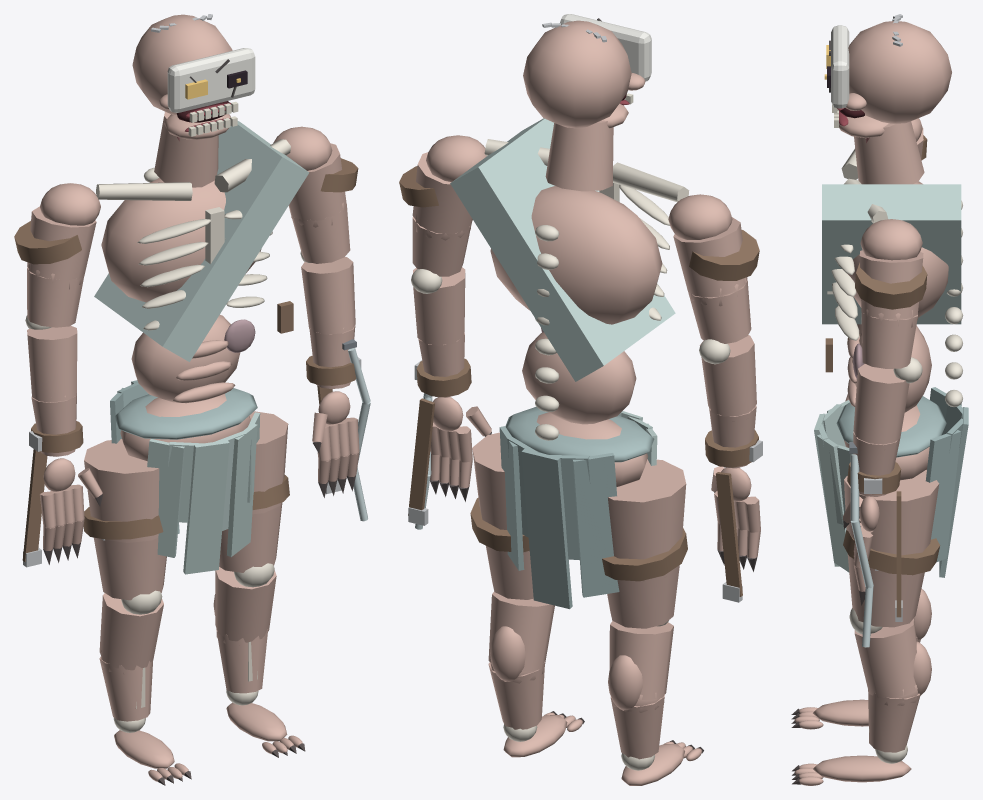
File: patient.glb
3 renders of one model, left to right at view 1: azimuth 30°, elevation 25°; view 2: azimuth 150°, elevation 25°; view 3: azimuth 270°, elevation 25°, orthographic. The views are drawn at different scales.
Visible parts, largest first — view 1: ward_gown.006, ward_skin.071, ward_skin.012, ward_gown.002, ward_skin.073, ward_skin.067, ward_gown_dark.005, ward_mask, ward_skin.013, ward_skin.028, ward_skin.049, ward_skin.015 (+42 smaller); view 2: ward_gown.006, ward_skin.071, ward_skin.073, ward_skin.012, ward_gown_dark.002, ward_skin.067, ward_gown_dark, ward_skin.072, ward_gown_dark.005, ward_skin.049, ward_skin.015, ward_skin.013 (+33 smaller); view 3: ward_gown.006, ward_skin.073, ward_skin, ward_skin.028, ward_skin.003, ward_skin.072, ward_skin.001, ward_gown_dark.004, ward_skin.026, ward_skin.004, ward_gown_dark.005, ward_skin.024 (+32 smaller).
Part boxes in pixels (x1=…): ward_gown.006: x1=94, y1=121, x2=309, y2=361; ward_skin.071: x1=101, y1=178, x2=261, y2=302; ward_skin.012: x1=84, y1=439, x2=159, y2=542; ward_gown.002: x1=183, y1=440, x2=229, y2=574; ward_skin.073: x1=132, y1=14, x2=232, y2=114; ward_skin.067: x1=131, y1=315, x2=240, y2=402; ward_gown_dark.005: x1=114, y1=388, x2=257, y2=439; ward_mask: x1=167, y1=48, x2=255, y2=112; ward_skin.013: x1=94, y1=537, x2=166, y2=600; ward_skin.028: x1=301, y1=257, x2=355, y2=334; ward_skin.049: x1=27, y1=325, x2=77, y2=401; ward_skin.015: x1=99, y1=593, x2=163, y2=670; ward_gown.006: x1=450, y1=118, x2=675, y2=381; ward_skin.071: x1=490, y1=186, x2=662, y2=324; ward_skin.073: x1=523, y1=20, x2=631, y2=128; ward_skin.012: x1=608, y1=459, x2=686, y2=559; ward_gown_dark.002: x1=521, y1=449, x2=572, y2=609; ward_skin.067: x1=522, y1=332, x2=636, y2=424; ward_gown_dark: x1=572, y1=453, x2=619, y2=597; ward_skin.072: x1=545, y1=120, x2=613, y2=191; ward_gown_dark.005: x1=505, y1=406, x2=654, y2=462; ward_skin.049: x1=699, y1=335, x2=756, y2=416; ward_skin.015: x1=609, y1=621, x2=673, y2=700; ward_skin.013: x1=607, y1=565, x2=679, y2=628; ward_gown.006: x1=822, y1=184, x2=961, y2=324; ward_skin.073: x1=848, y1=21, x2=951, y2=123; ward_skin: x1=844, y1=470, x2=939, y2=559; ward_skin.028: x1=853, y1=364, x2=909, y2=443; ward_skin.003: x1=854, y1=618, x2=917, y2=697; ward_skin.072: x1=854, y1=121, x2=924, y2=184; ward_skin.001: x1=847, y1=554, x2=924, y2=627; ward_gown_dark.004: x1=925, y1=430, x2=961, y2=562; ward_skin.026: x1=861, y1=313, x2=917, y2=368; ward_skin.004: x1=868, y1=690, x2=919, y2=752; ward_gown_dark.005: x1=836, y1=396, x2=946, y2=457; ward_skin.024: x1=860, y1=219, x2=922, y2=260.
Size of the model in its own units: 1.08 by 2.18 by 0.4829.
